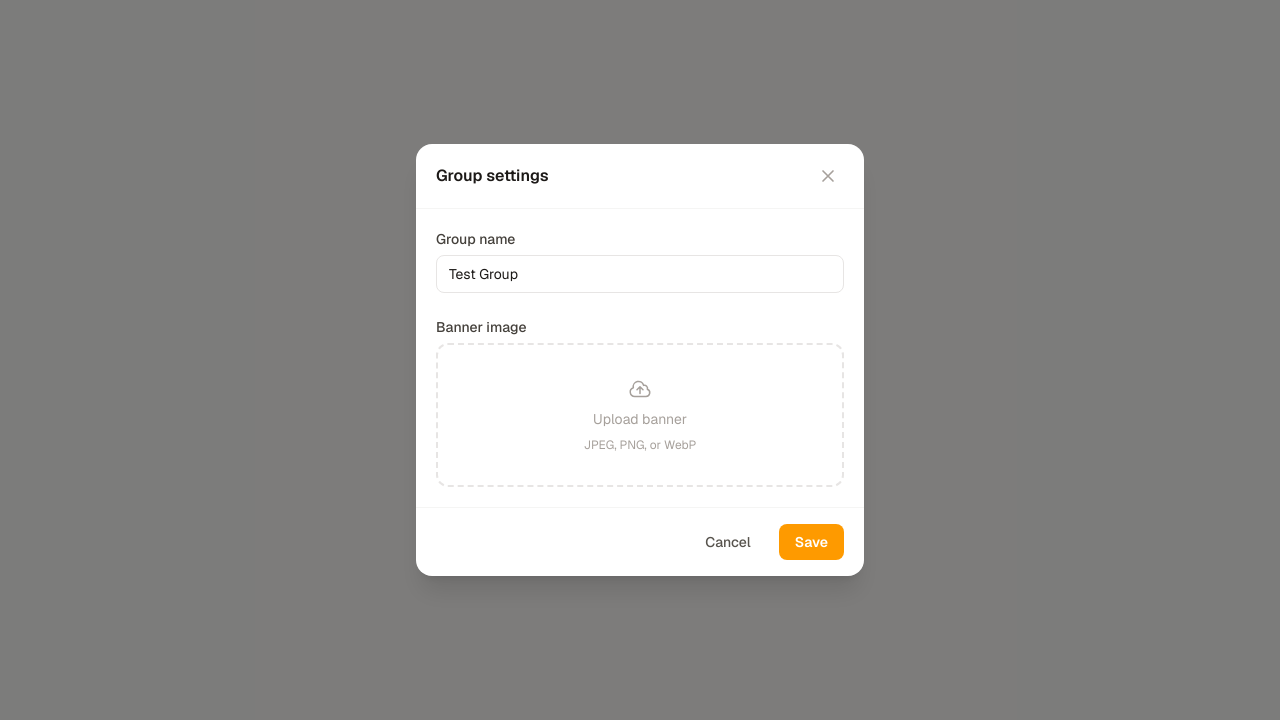
Test: GroupSettingsModal › shows error message when API returns an error
The image size is (1280, 720).
Click the button "Save" at (811, 542), box [779,524,844,560]
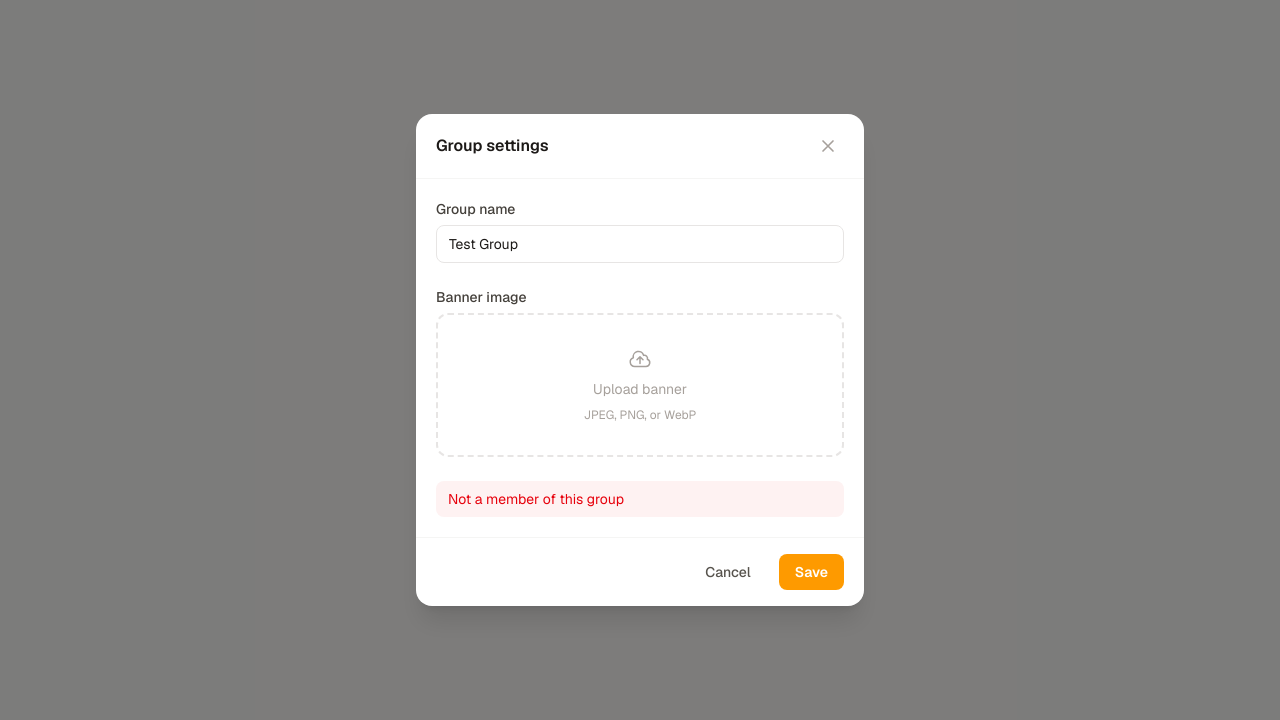
Result: the text "Not a member of this group" is shown at [436,481,844,517]
